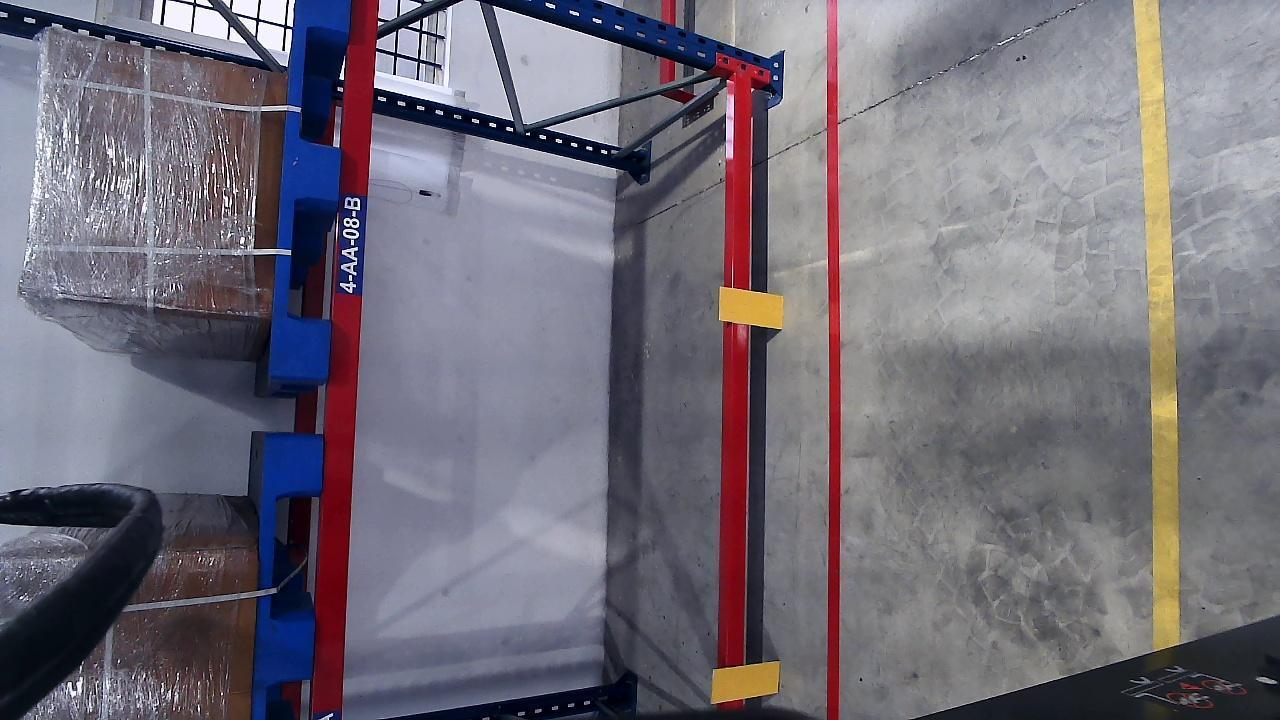red_line: (822, 14, 844, 720)
yellow_line: (1132, 0, 1181, 643)
